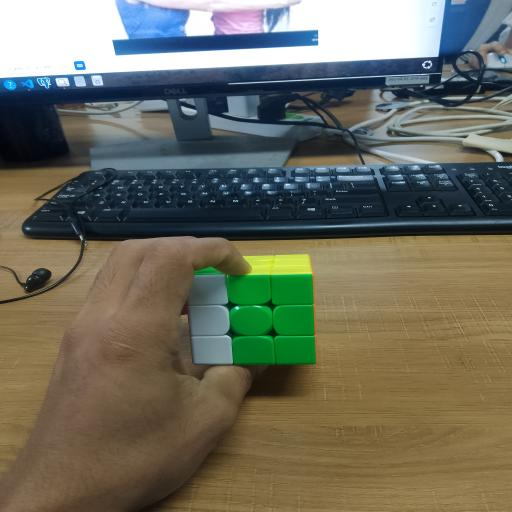cubic: (151, 235, 337, 375)
